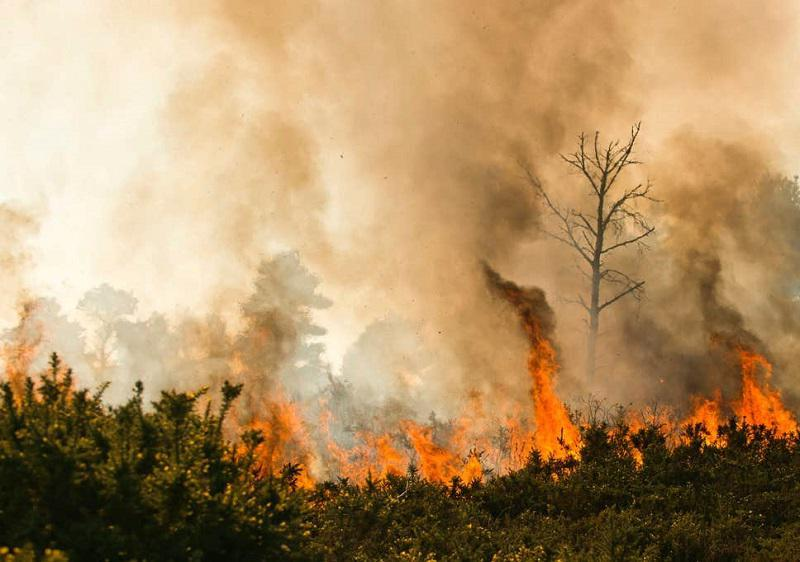Fire: (219, 365, 785, 499)
